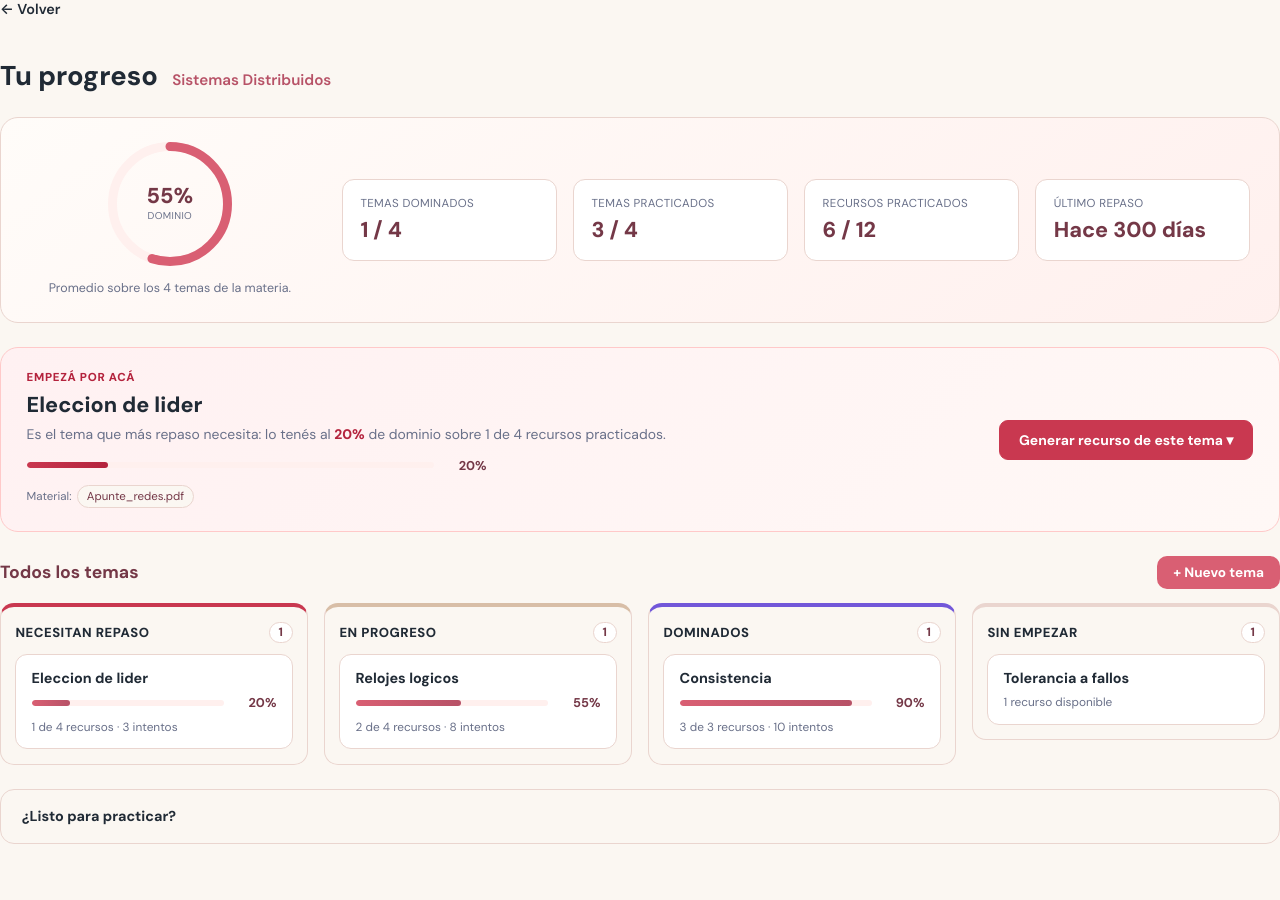
it: ProgressPage: crear un tema a mano › crea el tema con sus documentos y vuelve a pedir el progreso
The width and height of the screenshot is (1280, 900).
Click the button "+ Nuevo tema" at [1219, 572], box 1157,556 -> 1279,589
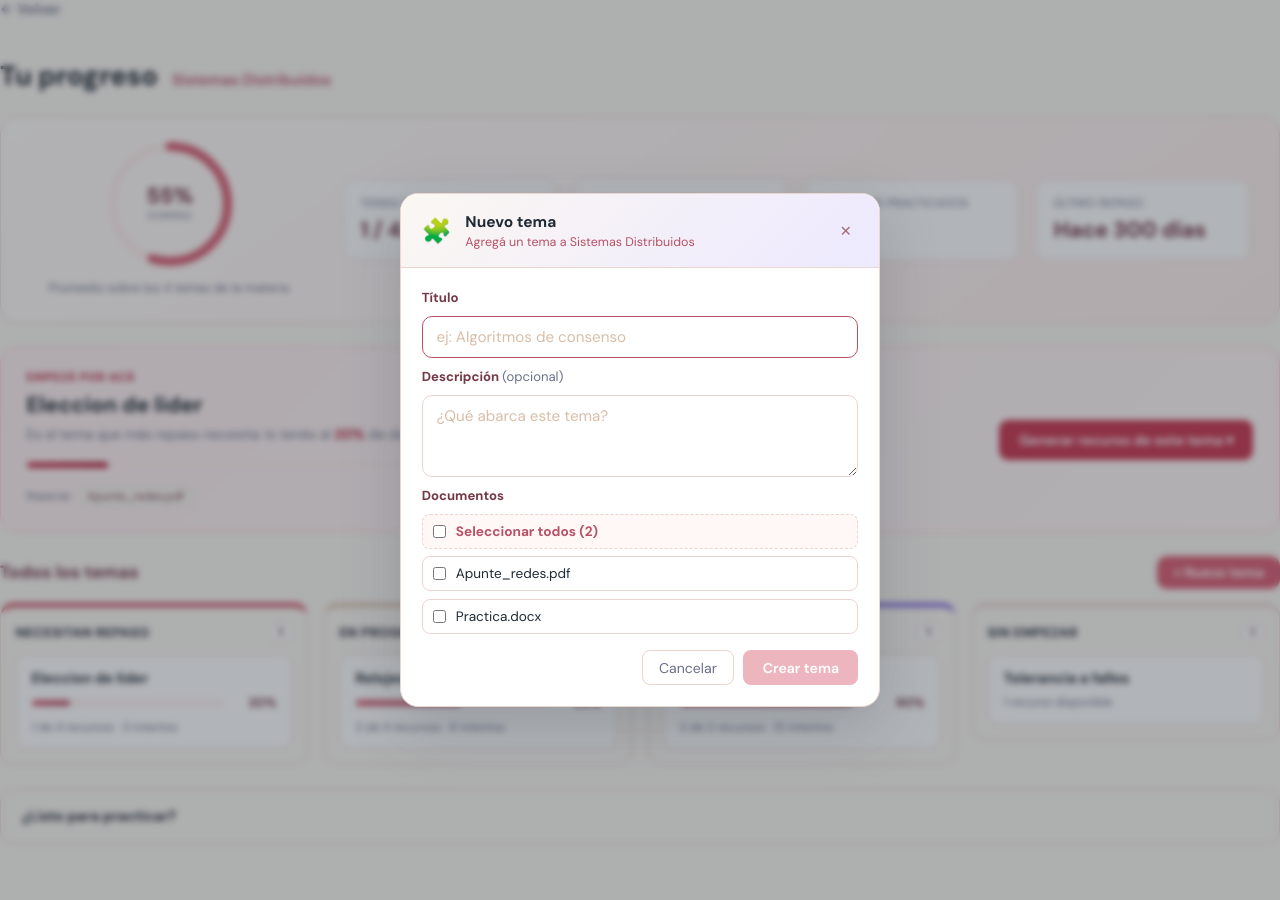
Type "  Consenso " into the field labelled "Título" at [640, 337], box 422,316 -> 858,358
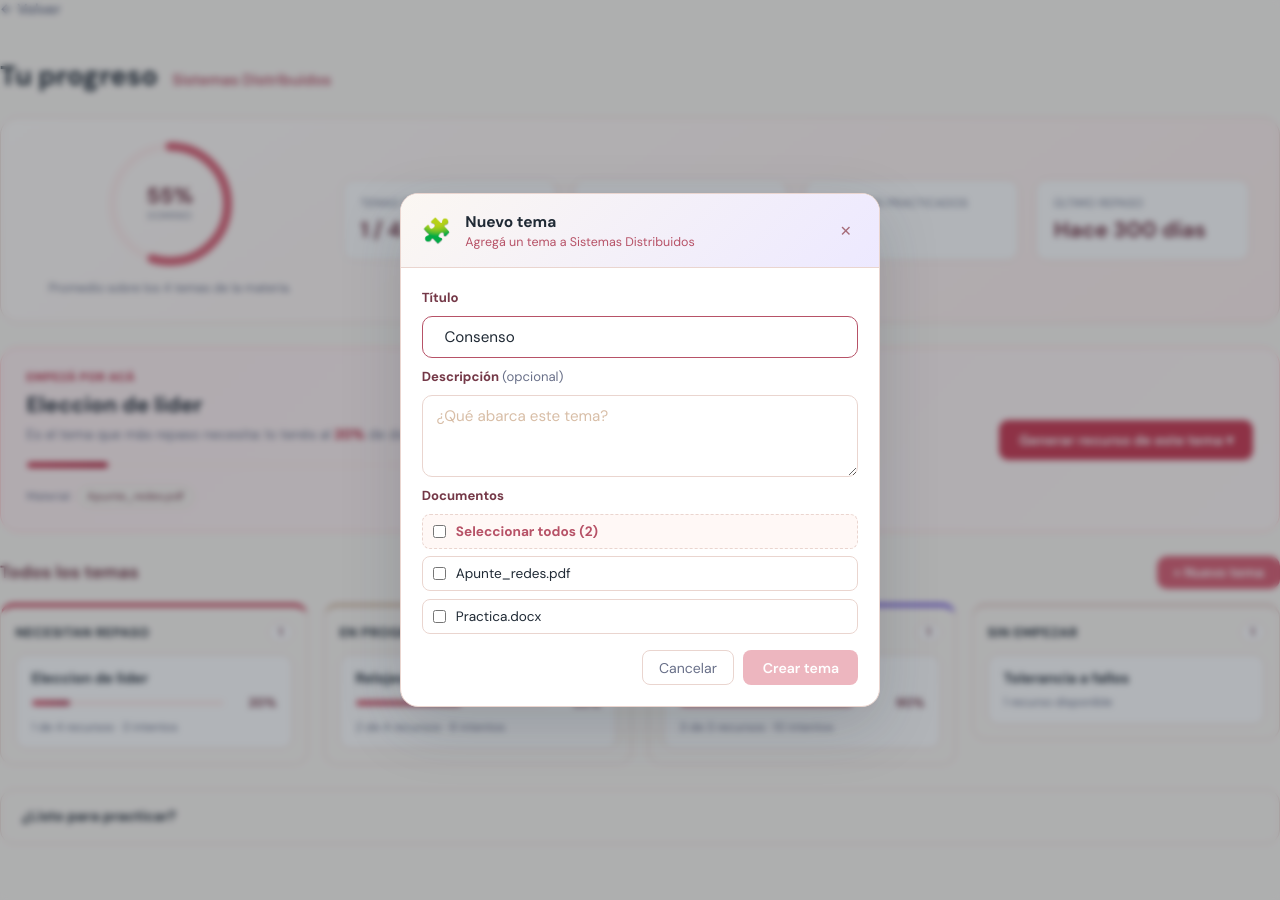
Type "Paxos y Raft" into the text box labelled "Descripción (opcional)" at [640, 436], box 422,395 -> 858,476
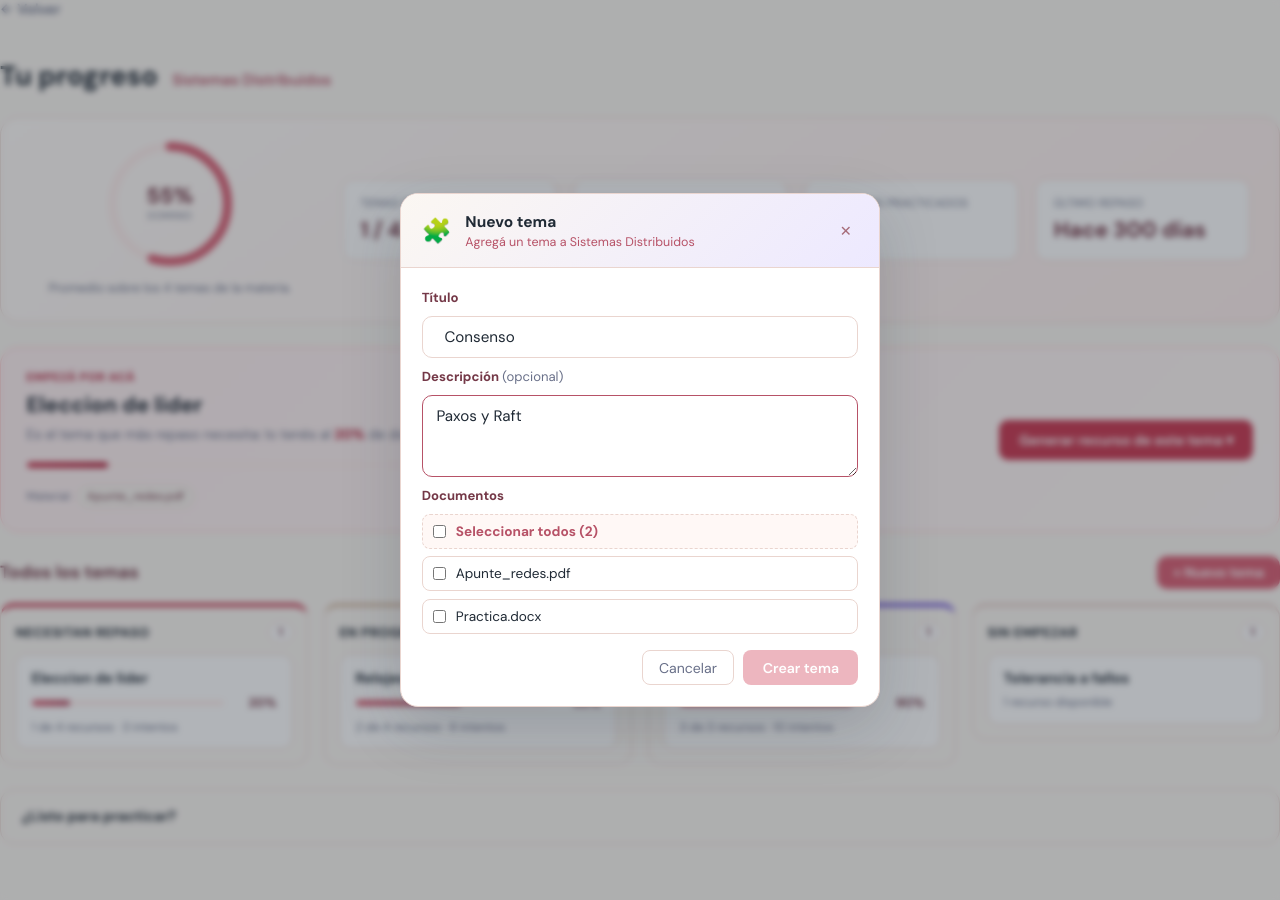
Click the checkbox labelled "Practica.docx" at [440, 616], box 433,610 -> 446,623
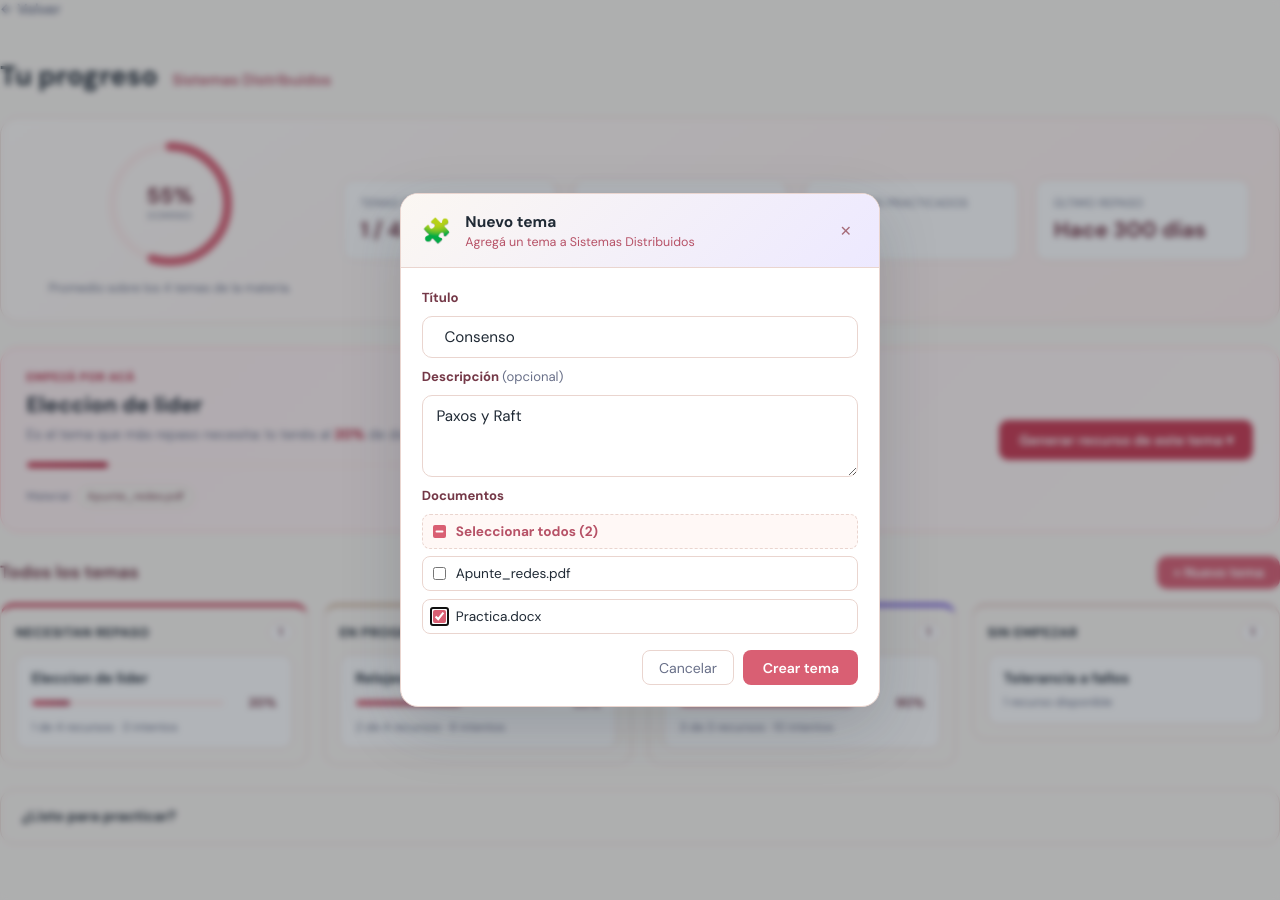
Click the button "Crear tema" at [801, 668], box 744,650 -> 858,685
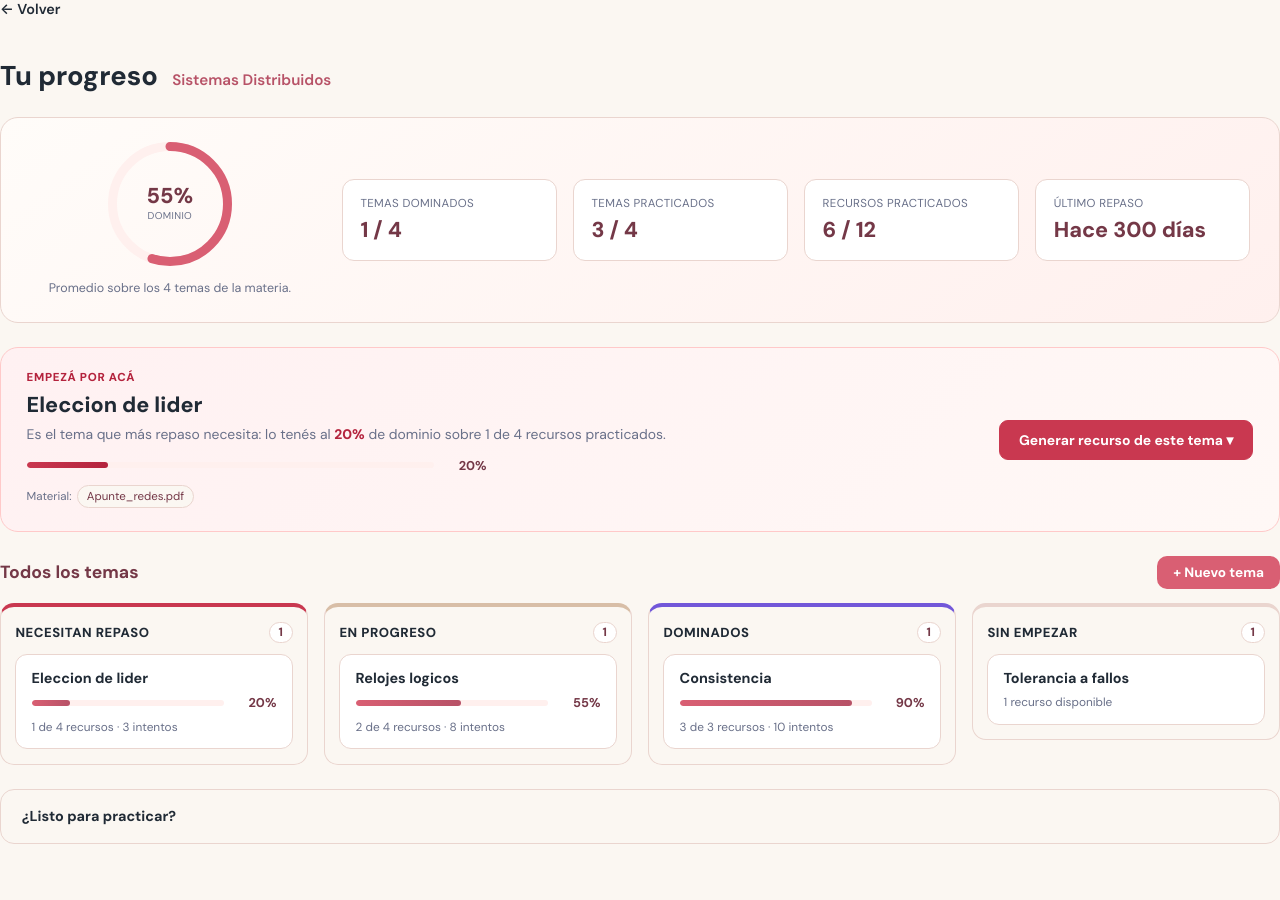
Now the dialog is gone
